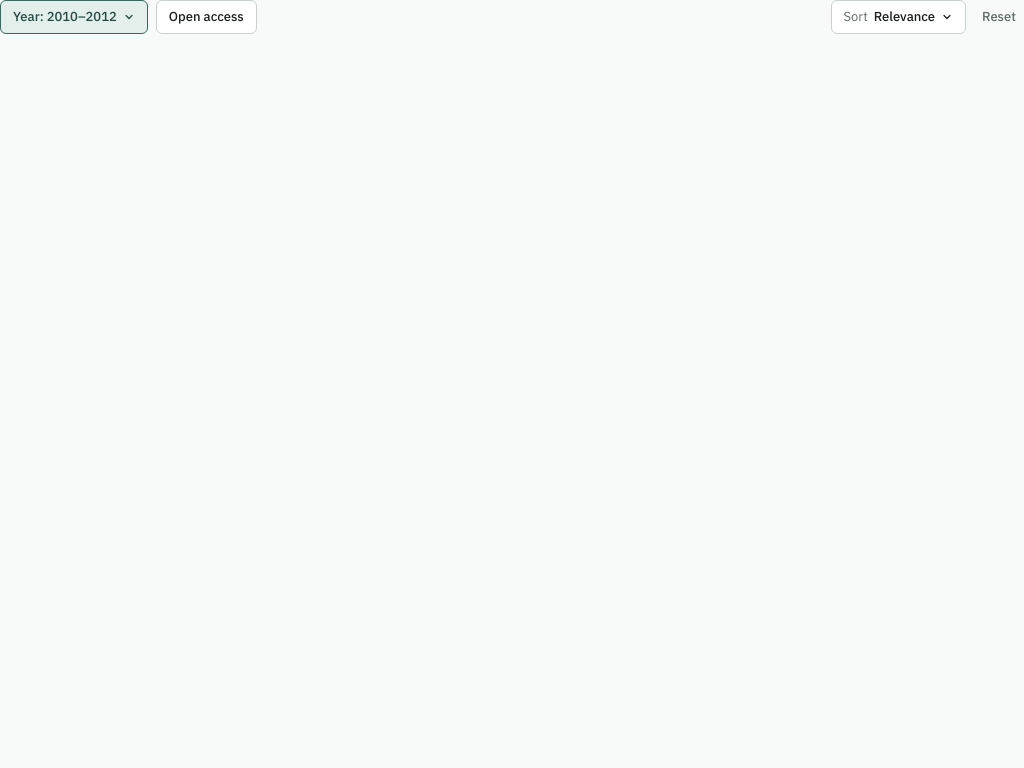
Test case: SearchFilters — toolbar › applies the years together and clears one left empty
The width and height of the screenshot is (1024, 768).
Click the button "Year: 2010–2012" at (74, 17), box [0, 0, 148, 34]
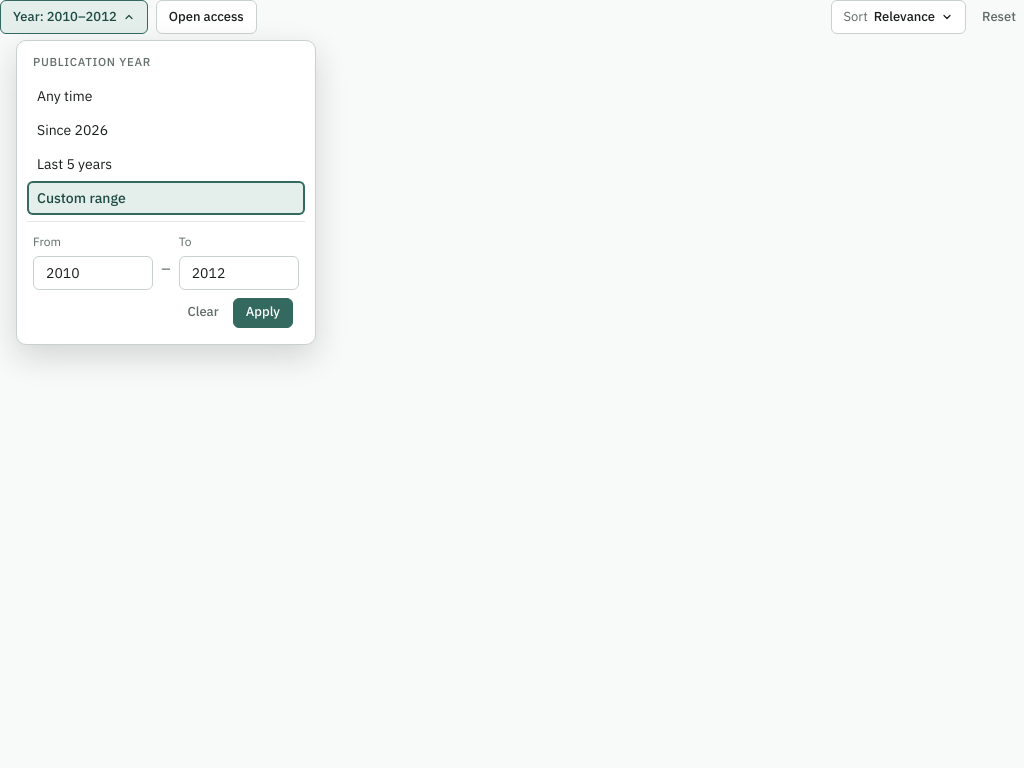
Replace the text in the number field labelled "From" with "2015" at (93, 273), box [33, 256, 153, 290]
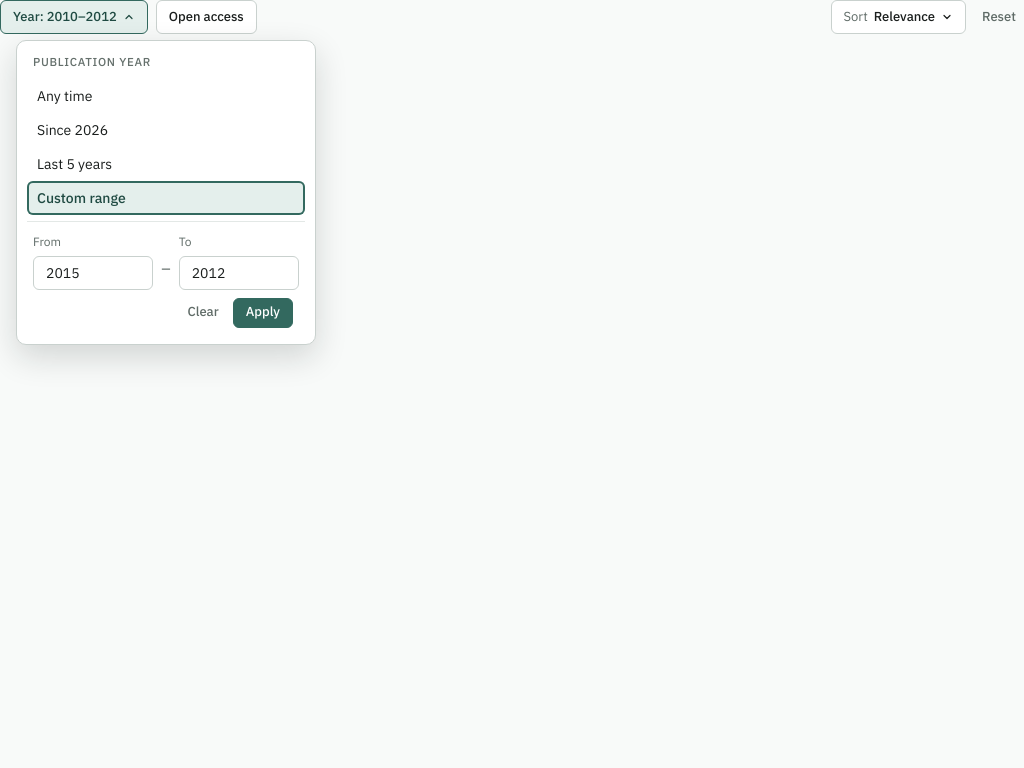
Clear the number field labelled "To" at (239, 273), box [179, 256, 299, 290]
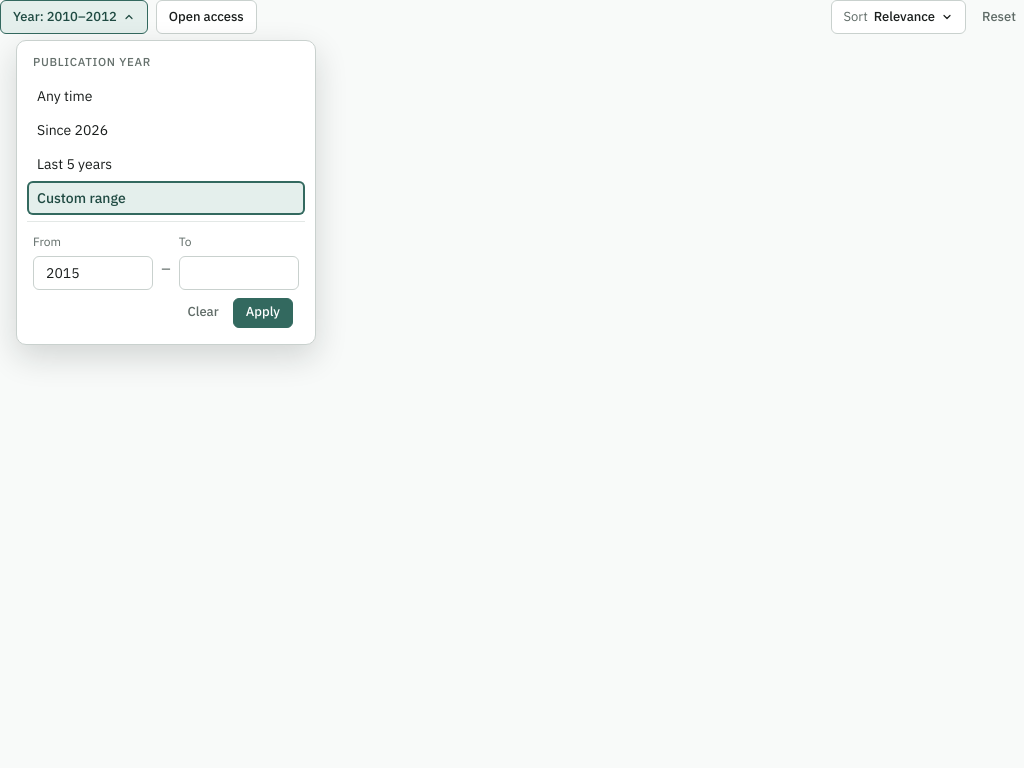
Click the button "Apply" at (263, 313), box [233, 298, 293, 328]
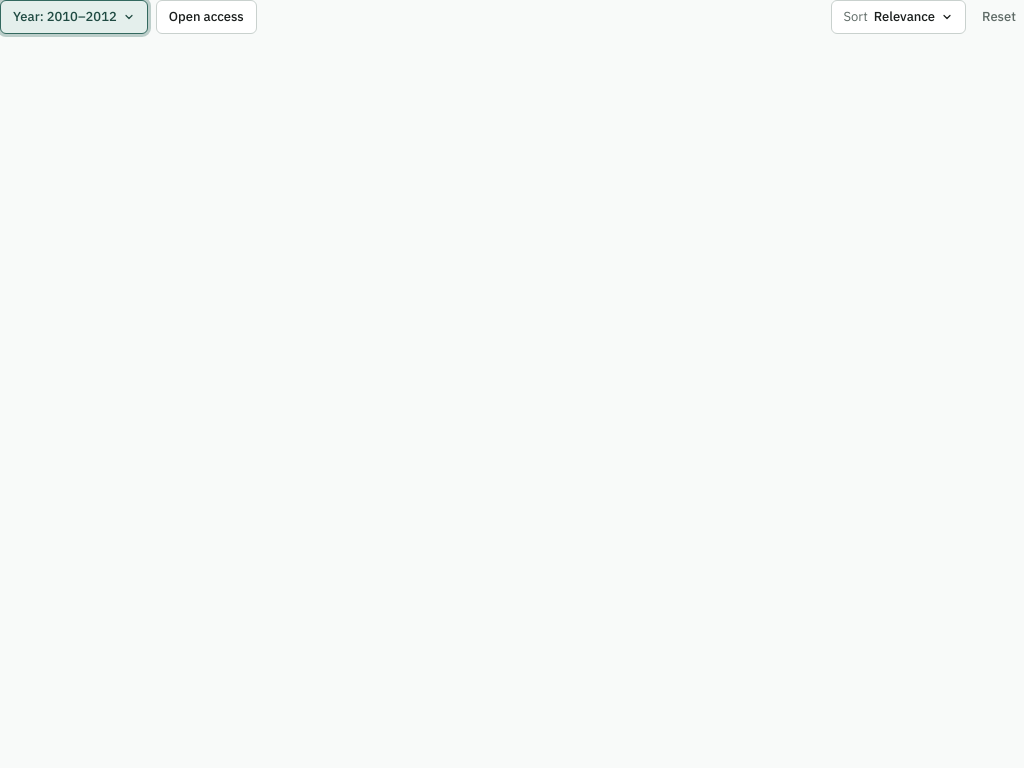
Expected: the dialog is gone
